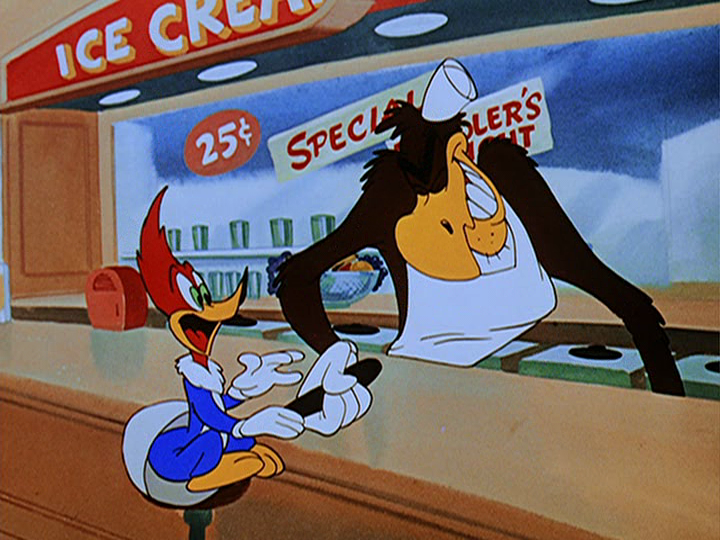picapau: (71, 205, 292, 509)
urubu: (276, 64, 682, 389)
